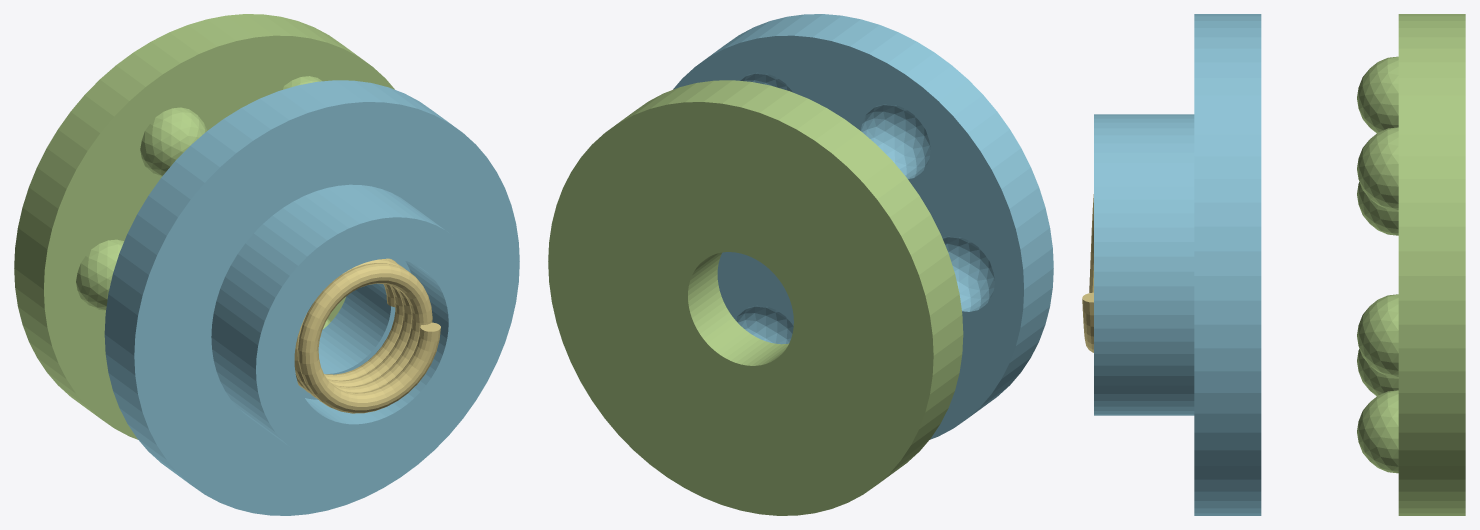
The model's file is torque_limiter_demo.glb.
3 views of the same model, side by side, from view 1: azimuth 30°, elevation 25°; view 2: azimuth 150°, elevation 25°; view 3: azimuth 270°, elevation 25° (orthographic). The views are drawn at different scales.
Visible parts, largest first — view 1: pocket_driven, detent_driver, preload_spring; view 2: detent_driver, pocket_driven; view 3: pocket_driven, detent_driver, preload_spring.
Boxes of the visible parts, left/top/right/bottom form: pocket_driven: left=104, top=80, right=519, bottom=515; detent_driver: left=14, top=14, right=394, bottom=439; preload_spring: left=294, top=258, right=440, bottom=413; detent_driver: left=548, top=80, right=963, bottom=515; pocket_driven: left=673, top=14, right=1053, bottom=439; pocket_driven: left=1094, top=14, right=1261, bottom=515; detent_driver: left=1357, top=14, right=1465, bottom=515; preload_spring: left=1082, top=194, right=1093, bottom=352.
Bounding box in the file's own units: 30 × 30 × 22.9.
